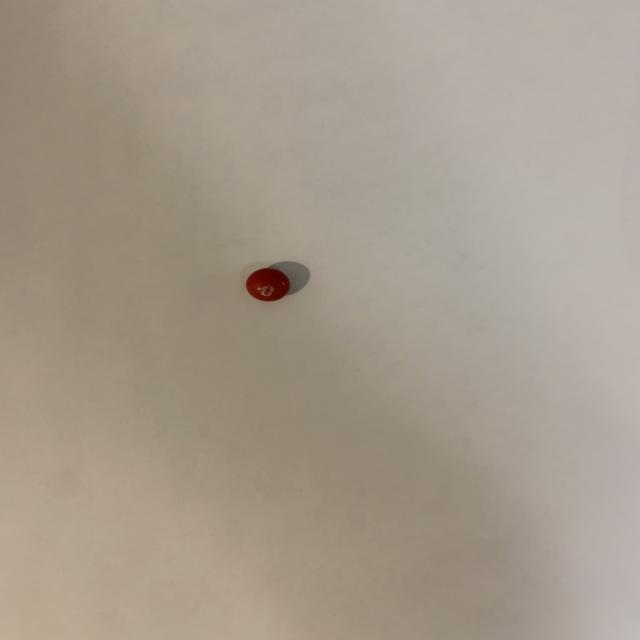smartie: (246, 268, 290, 301)
